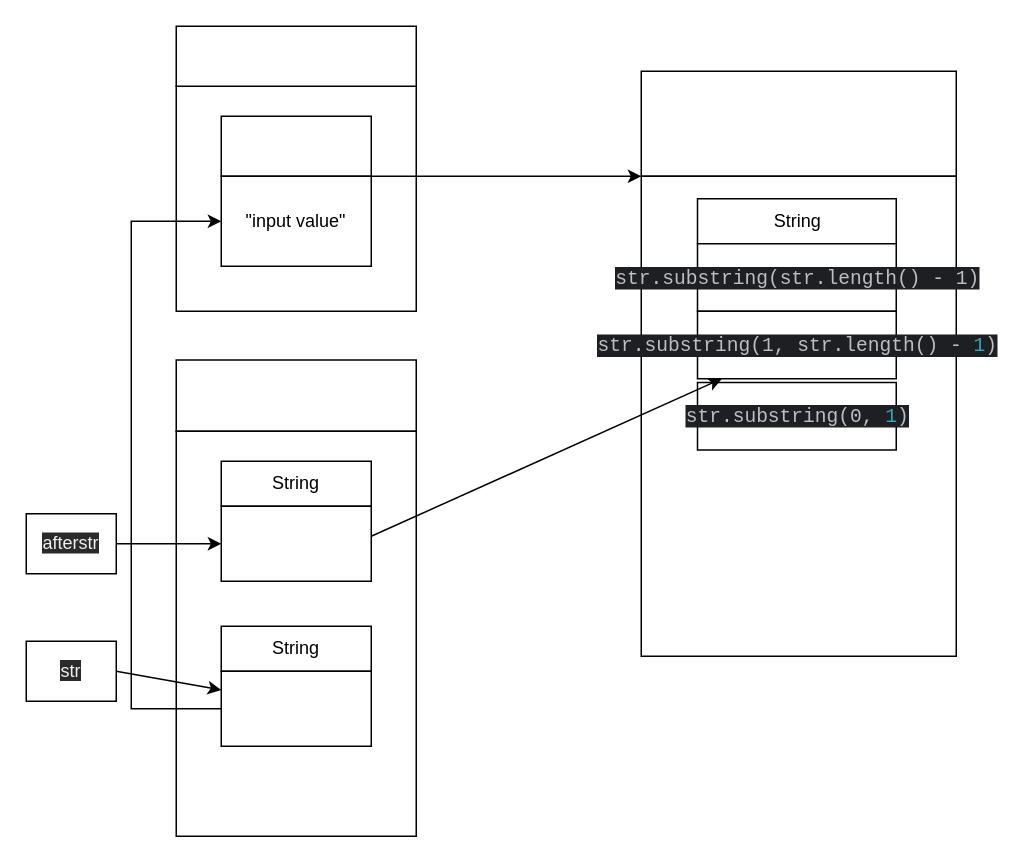
This 1023x863 diagram has some shape labels left out. Here are the shapes that lost their labels. From the top down, the box of each, then its label:
(175, 25, 416, 86): Heap Memory
(640, 70, 956, 176): String Pool
(220, 115, 371, 176): input
(175, 358, 416, 431): Stack Memory
